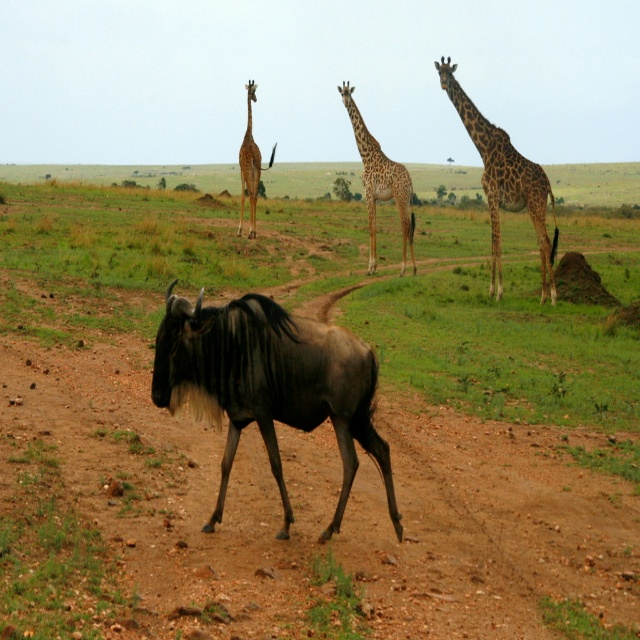Giraffe: (433, 54, 559, 307), (335, 78, 418, 279), (235, 79, 275, 238)
